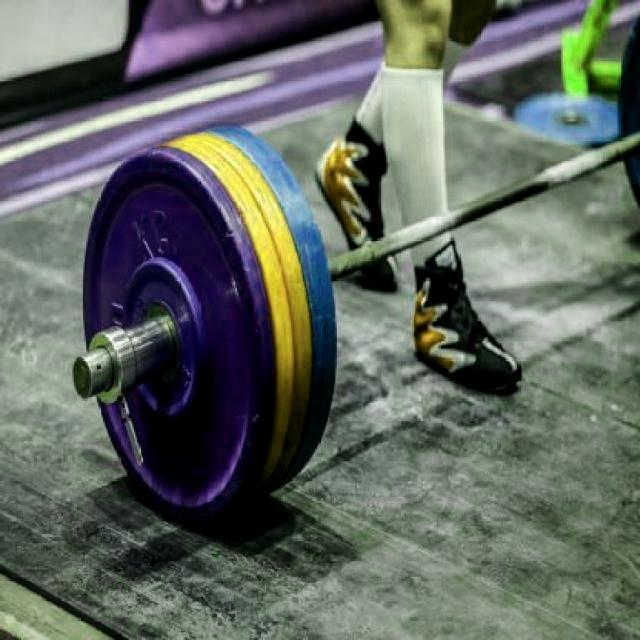barbell: (66, 141, 268, 530)
